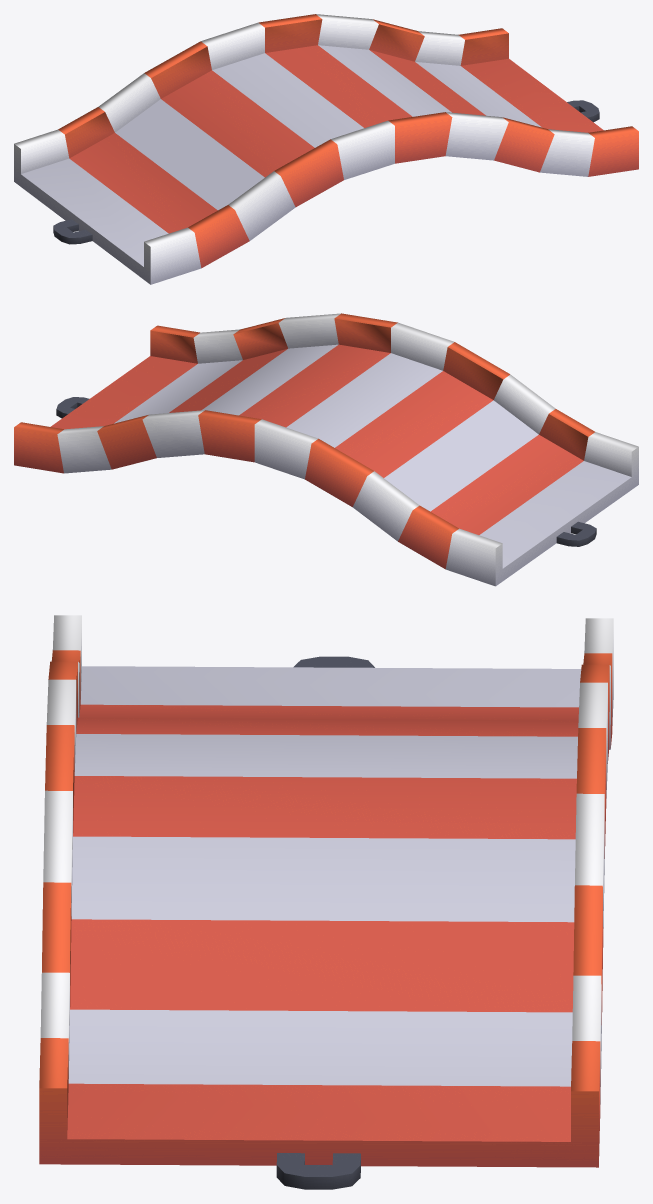
Rendered from track-striped-wide-straight-bump-up.001_lev2.glb.
3 renders of one model, top to bottom at view 1: azimuth 30°, elevation 25°; view 2: azimuth 150°, elevation 25°; view 3: azimuth 270°, elevation 25°, orthographic. The views are drawn at different scales.
Visible parts, largest first — view 1: track-striped-wide-straight-bump-up.001_lev2; view 2: track-striped-wide-straight-bump-up.001_lev2; view 3: track-striped-wide-straight-bump-up.001_lev2.
Part boxes in pixels (x1=…): track-striped-wide-straight-bump-up.001_lev2: x1=14, y1=14, x2=638, y2=284; track-striped-wide-straight-bump-up.001_lev2: x1=14, y1=313, x2=638, y2=586; track-striped-wide-straight-bump-up.001_lev2: x1=39, y1=615, x2=613, y2=1189.
Size of the model in its own units: 4.4 by 0.8 by 2.05.
Materials: 1 (1 with a texture image).
